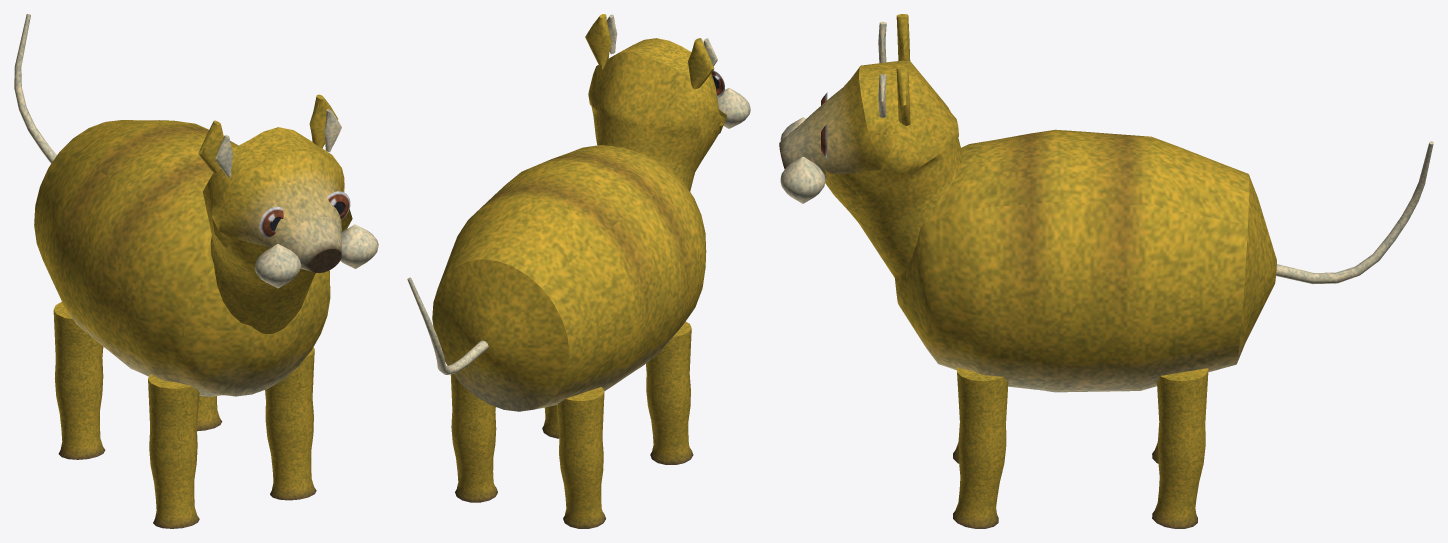
The model's file is sp_dennezu-c71hx89v.glb.
3 renders of one model, left to right at view 1: azimuth 30°, elevation 25°; view 2: azimuth 150°, elevation 25°; view 3: azimuth 270°, elevation 25°, orthographic. The views are drawn at different scales.
Visible parts, largest first — view 1: Torso, HeadMesh, Leg-1_-0.17, Leg-1_0.16, Leg1_-0.17, TailMesh, Leg1_0.16; view 2: Torso, HeadMesh, Leg-1_0.16, Leg-1_-0.17, Leg1_0.16, TailMesh, Leg1_-0.17; view 3: Torso, HeadMesh, Leg1_0.16, Leg1_-0.17, TailMesh.
Boxes of the visible parts, x1=… form: Torso: x1=34, y1=120, x2=330, y2=396; HeadMesh: x1=198, y1=94, x2=378, y2=333; Leg-1_-0.17: x1=148, y1=374, x2=199, y2=528; Leg-1_0.16: x1=53, y1=302, x2=105, y2=459; Leg1_-0.17: x1=265, y1=347, x2=316, y2=500; TailMesh: x1=14, y1=14, x2=56, y2=163; Leg1_0.16: x1=197, y1=396, x2=222, y2=431; Torso: x1=432, y1=145, x2=706, y2=411; HeadMesh: x1=585, y1=14, x2=750, y2=191; Leg-1_0.16: x1=557, y1=387, x2=605, y2=528; Leg-1_-0.17: x1=646, y1=321, x2=693, y2=464; Leg1_0.16: x1=450, y1=374, x2=497, y2=502; TailMesh: x1=407, y1=277, x2=488, y2=374; Leg1_-0.17: x1=542, y1=405, x2=559, y2=438; Torso: x1=894, y1=129, x2=1276, y2=392; HeadMesh: x1=779, y1=14, x2=962, y2=277; Leg1_0.16: x1=1152, y1=368, x2=1208, y2=528; Leg1_-0.17: x1=953, y1=367, x2=1008, y2=528; TailMesh: x1=1276, y1=141, x2=1433, y2=283.
Bounding box in the file's own units: 0.43 × 0.8203 × 1.08.
Materials: 1 (1 with a texture image).
